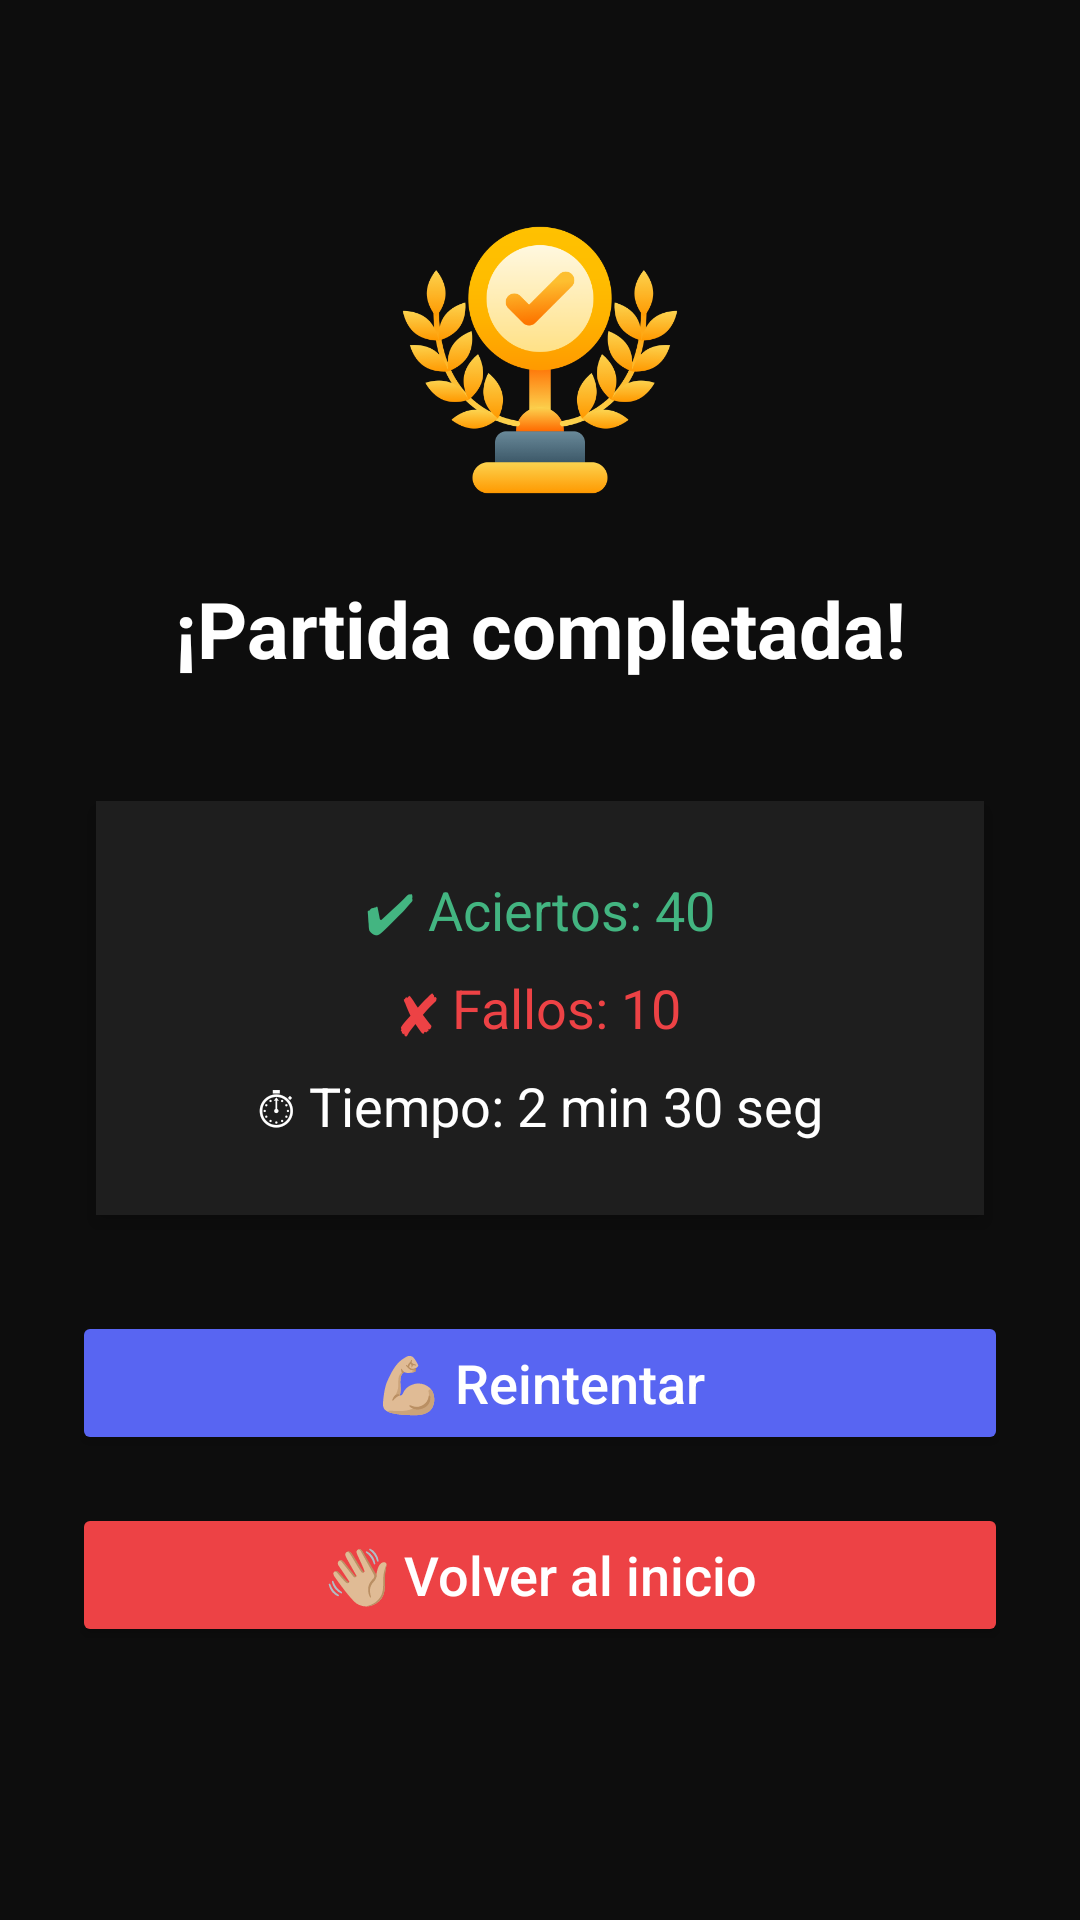

Icon click points for this 1080x1920 phone screenshot, format (x=x, y=y):
trofeo: (x=540, y=360)
